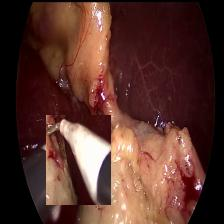Hook: (45, 114, 110, 204)
